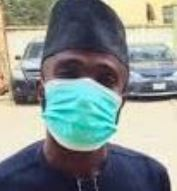with_facemask: (39, 77, 125, 157)
